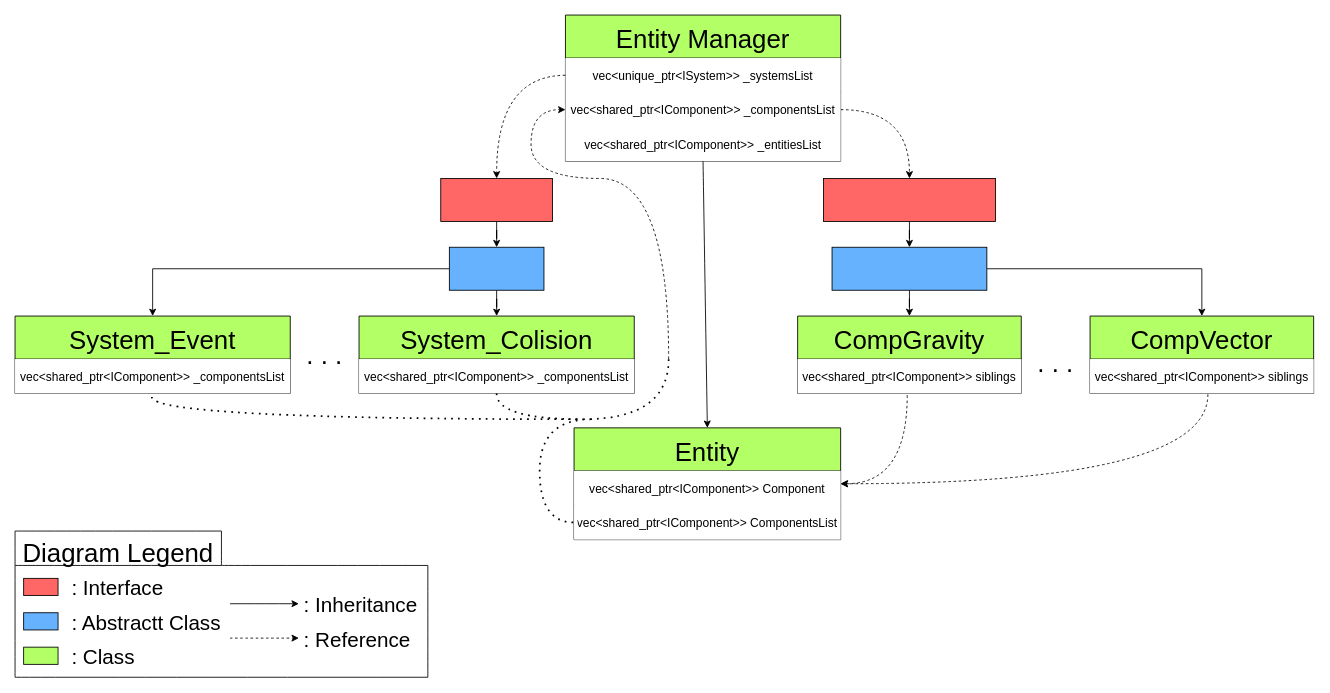
Image size: 1330x693. Some labels were removed from this diagram. The centre of each missing label's shape, as x and y in pixels:
"Component" goes at (909,268).
"IComponent" goes at (909,199).
"ISystem" goes at (496,199).
"System" goes at (496,268).
